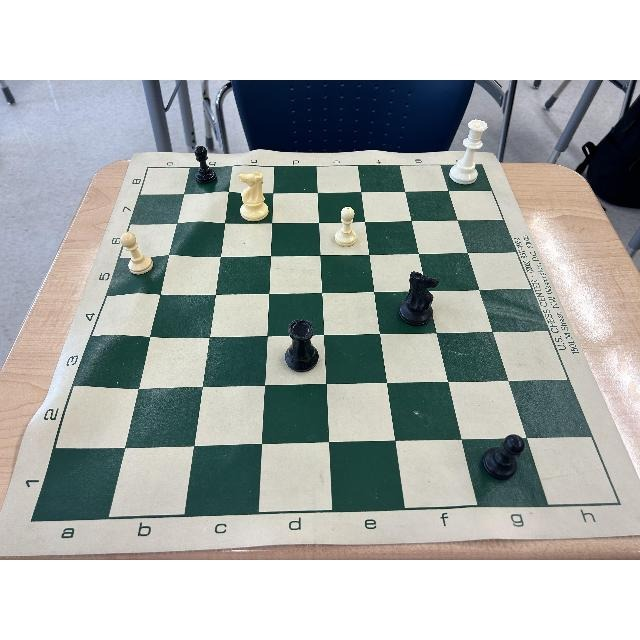black-knight: (397, 271, 440, 325)
black-pawn: (481, 433, 527, 481), (194, 146, 218, 185)
black-rook: (284, 317, 320, 373)
white-knight: (237, 172, 272, 222)
white-pawn: (119, 230, 157, 276), (333, 205, 361, 247)
white-queen: (449, 119, 490, 183)
